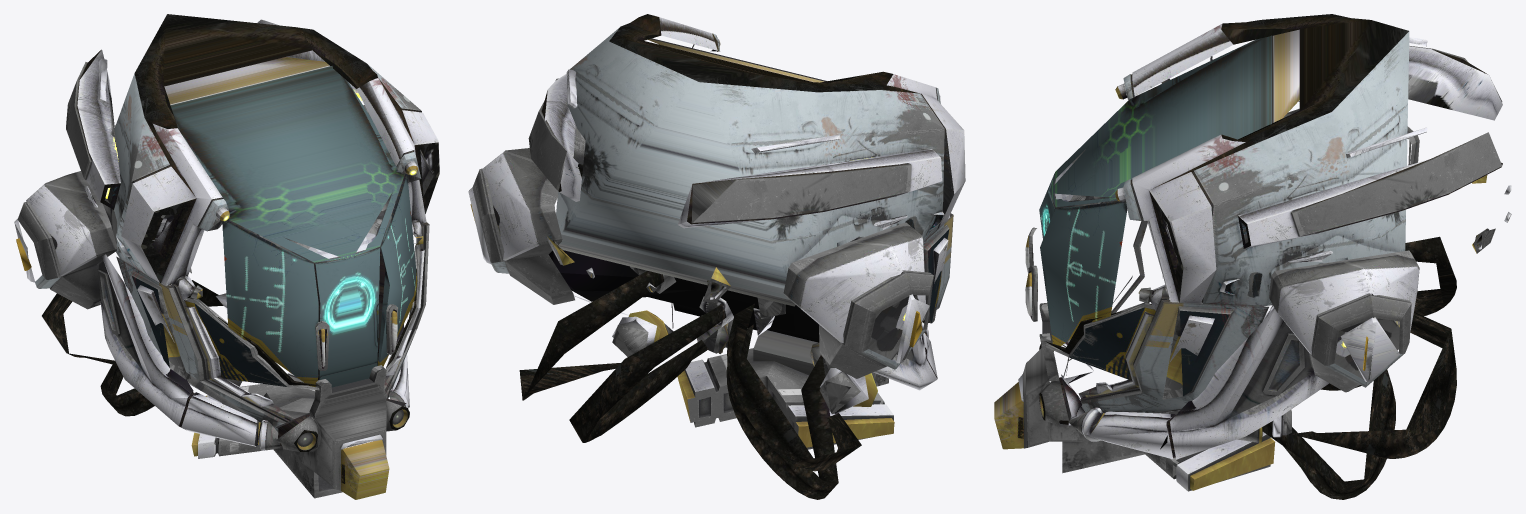
File: low-simple.glb
3 renders of one model, left to right at view 1: azimuth 30°, elevation 25°; view 2: azimuth 150°, elevation 25°; view 3: azimuth 270°, elevation 25°, orthographic. The views are drawn at different scales.
Parts seen in each view (by area): view 1: node_damagedHelmet_-6514; view 2: node_damagedHelmet_-6514; view 3: node_damagedHelmet_-6514.
Part boxes in pixels (box(x1,y1,x2,y2)): node_damagedHelmet_-6514: box(14, 14, 439, 499); node_damagedHelmet_-6514: box(468, 14, 965, 499); node_damagedHelmet_-6514: box(994, 14, 1511, 499).
Bounding box in the file's own units: 1.89 × 1.74 × 1.96.
Materials: 1 (1 with a texture image).
